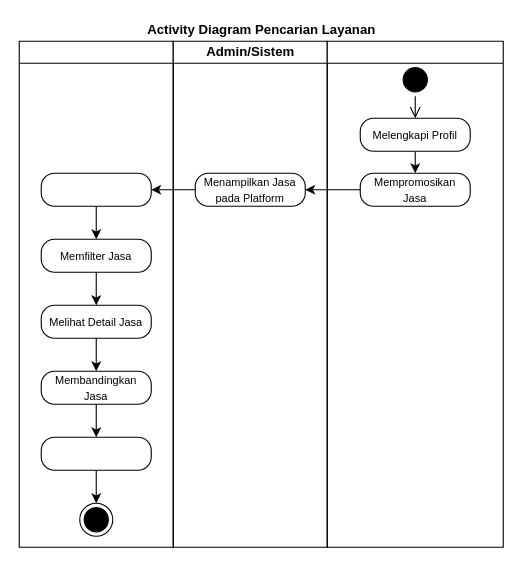
Some shapes in this 523 by 567 pixel diagram are drawn without their labels. Each missing label, with the box of its shape:
Menyimpan Jasa: (40, 436, 151, 470)
Pencarian Layanan: (40, 172, 151, 206)
Pengguna Jasa: (18, 40, 173, 547)
Penyedia Jasa: (326, 40, 503, 547)
